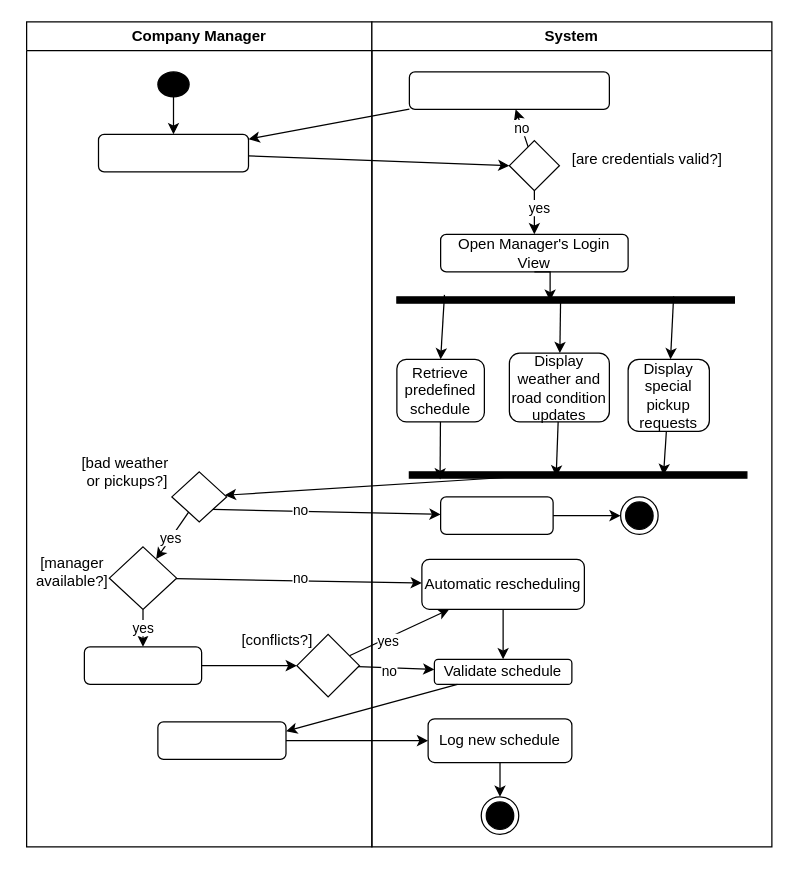
This 794x869 diagram has some shape labels left out. The centre of each missing label's shape, as x and y in pixels:
Adjust schedule: the point at 142,665
Enter credentials in system's login form: the point at 172,152
Finalize schedule: the point at 221,740
Prompt "Incorrect username or password": the point at 508,90
Retrieve current schedule: the point at 496,515
